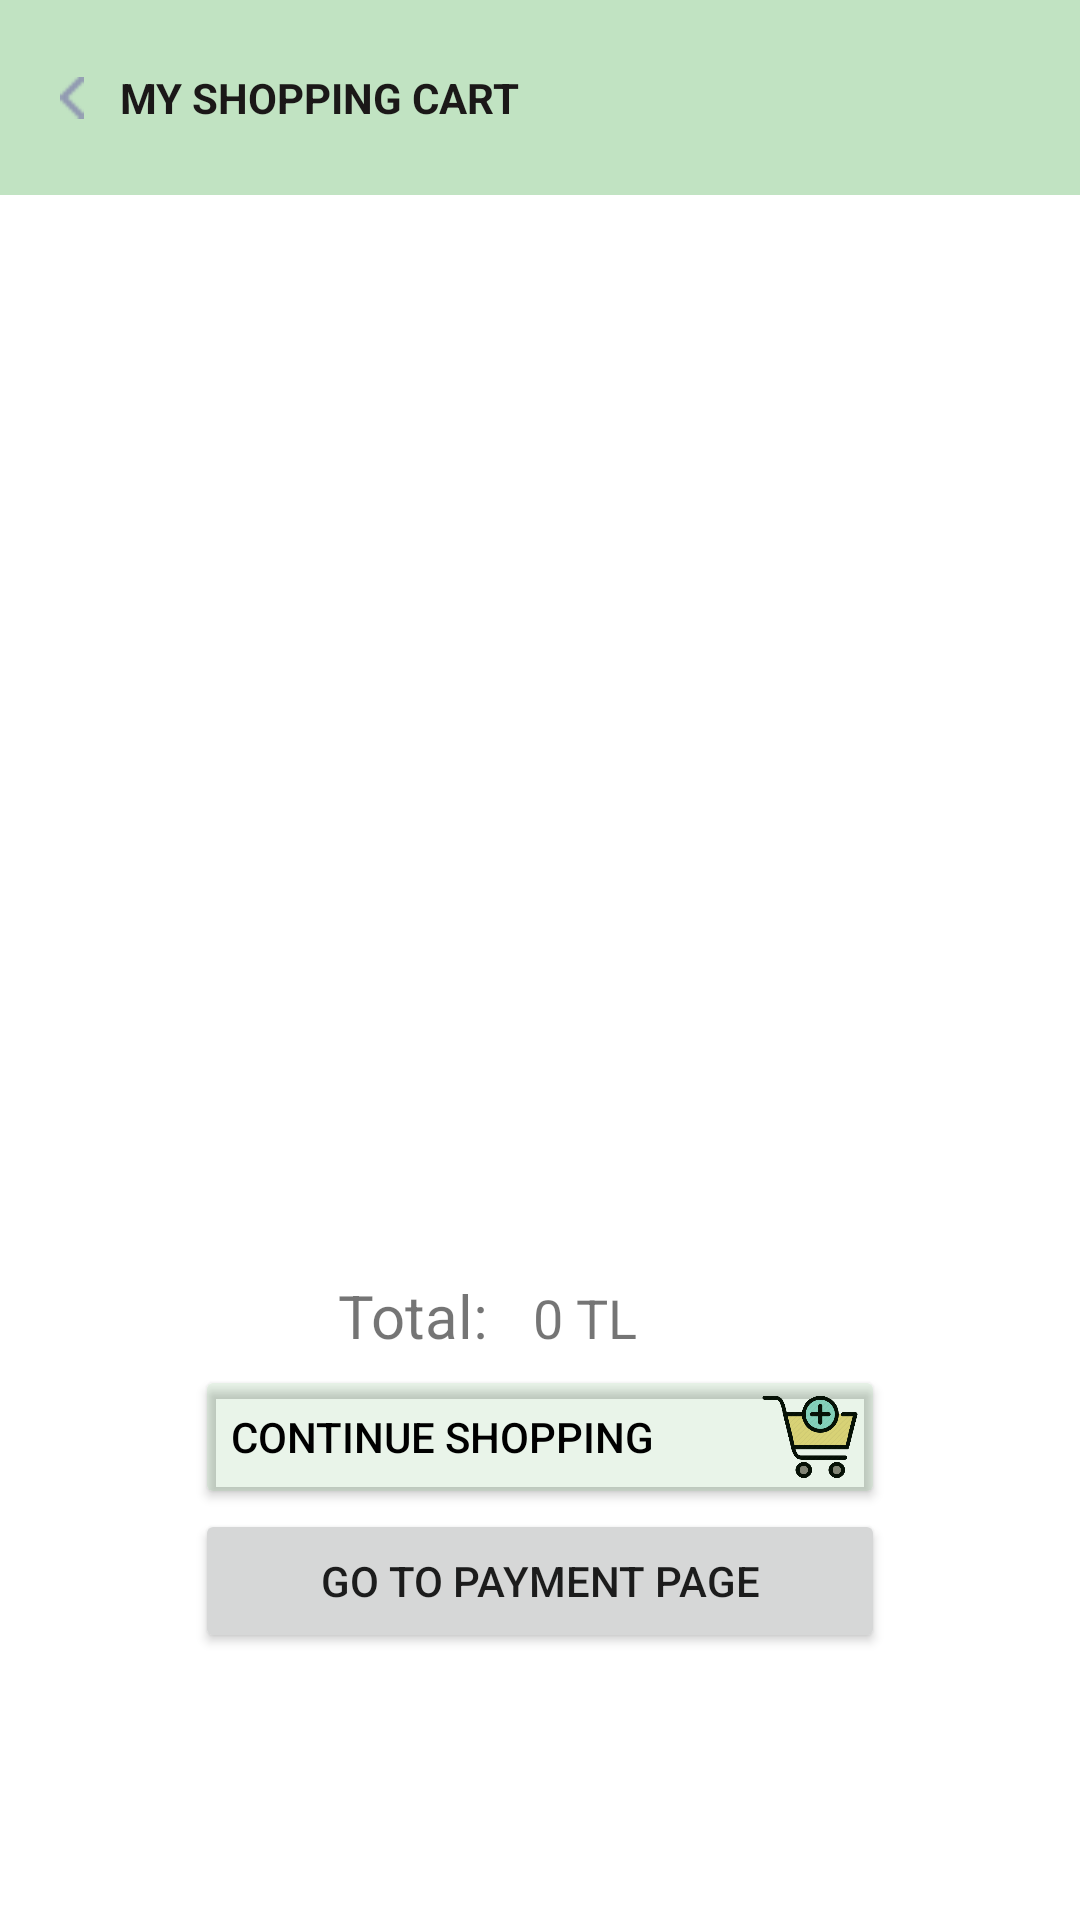

Locate icon controls on the screen. Image size 1080px×1920px, boxes as bbox=(x1, y1, x2, y2).
back arrow: bbox=(60, 77, 84, 119)
shopping cart: bbox=(735, 1384, 874, 1495)
